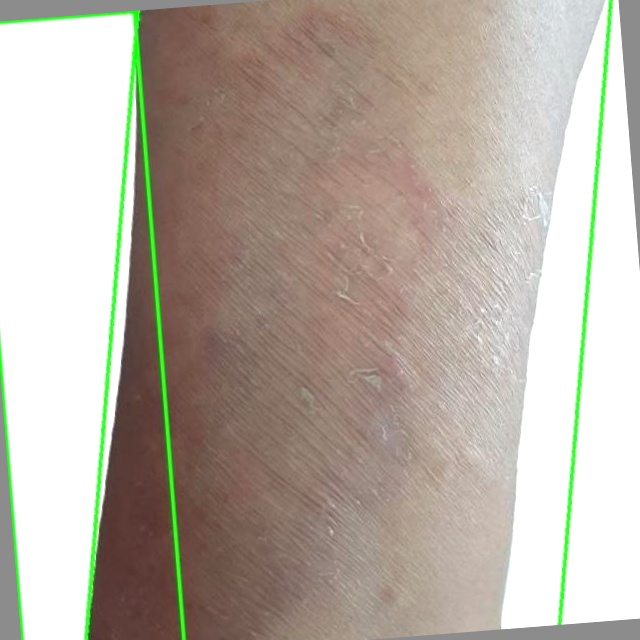Tinea Corporis: (87, 0, 611, 639), (0, 11, 183, 639)
